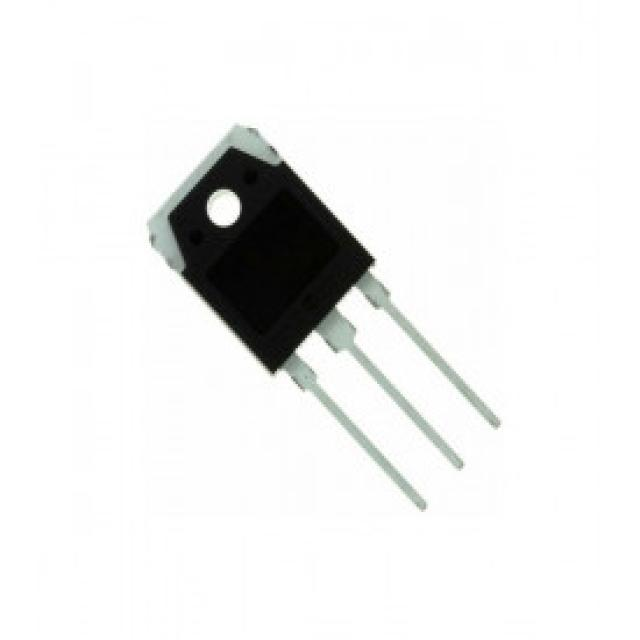Transistor: (148, 126, 507, 512)
